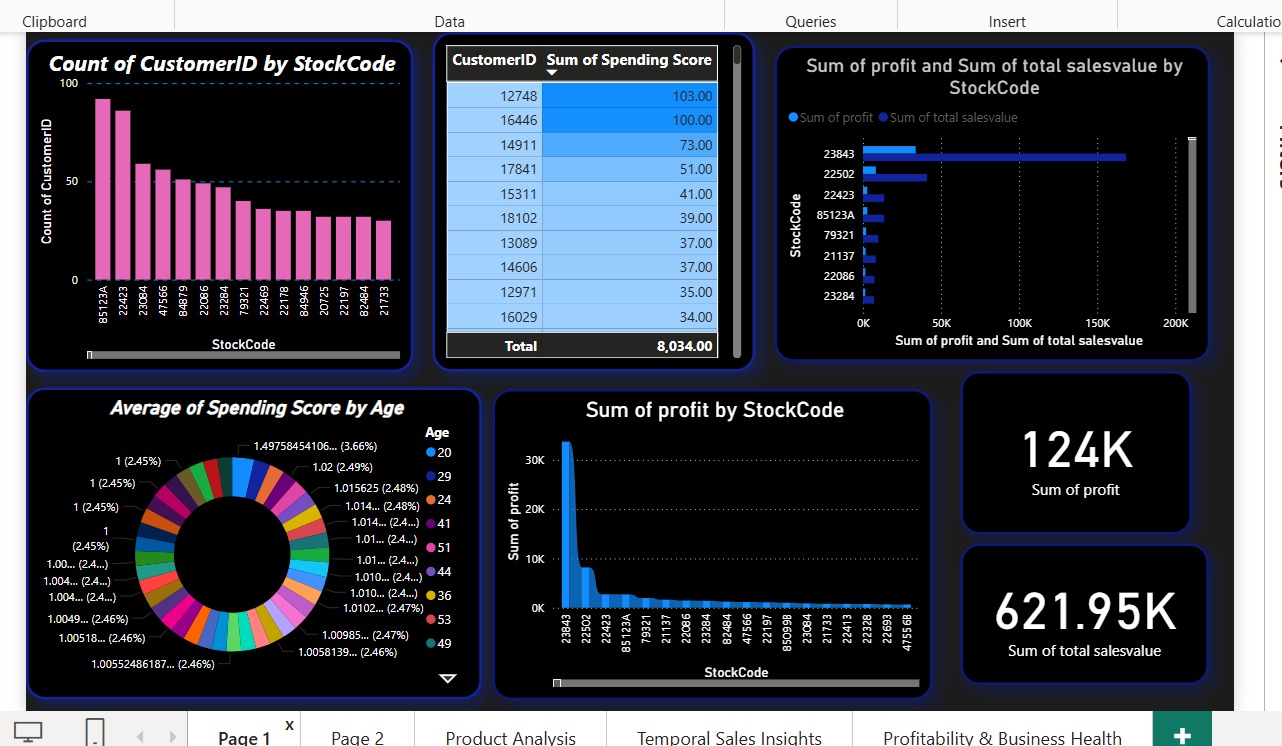

The dashboard page shown, as its layout file describes it:
{"tool":"powerbi","page":{"name":"Page 1","canvas":[1280,720],"ordinal":0},"visuals":[{"type":"clusteredColumnChart","fields":{"Category":["data.StockCode"],"Y":["CountNonNull(data.CustomerID)"]},"box":[0,7.3,410.9,352.7],"z":0},{"type":"donutChart","fields":{"Category":["data.Age"],"Y":["Avg(data.Spending Score)"]},"box":[0,376.4,483.6,330.9],"z":1000},{"type":"tableEx","fields":{"Values":["data.CustomerID","Sum(data.Spending Score)"]},"box":[430.9,0,341.8,360],"z":2000},{"type":"clusteredBarChart","fields":{"Category":["data.StockCode"],"Y":["Sum(data.profit)","Sum(data.total salesvalue)"]},"box":[793.3,15,461.7,335],"z":3000},{"type":"ribbonChart","fields":{"Category":["data.StockCode"],"Y":["Sum(data.profit)"]},"box":[495,378.3,466.7,330],"z":4000},{"type":"card","fields":{"Values":["Sum(data.profit)"]},"box":[991.7,360,245,173.3],"z":5000},{"type":"card","fields":{"Values":["Sum(data.total salesvalue)"]},"box":[991.7,541.7,263.3,150],"z":6000}]}

Visuals, with their boxes on the page's 1280x720 design canvas (x1, y1, x2, y2). These are canvas units, not pixel positions in the 1282x746 screenshot, which may show the page scaled, cropped or inside an application window:
clusteredColumnChart - data.StockCode x CountNonNull(data.CustomerID): (left=0, top=7, right=411, bottom=360)
donutChart - data.Age x Avg(data.Spending Score): (left=0, top=376, right=484, bottom=707)
tableEx - data.CustomerID x Sum(data.Spending Score): (left=431, top=0, right=773, bottom=360)
clusteredBarChart - data.StockCode x Sum(data.profit): (left=793, top=15, right=1255, bottom=350)
ribbonChart - data.StockCode x Sum(data.profit): (left=495, top=378, right=962, bottom=708)
card - Sum(data.profit): (left=992, top=360, right=1237, bottom=533)
card - Sum(data.total salesvalue): (left=992, top=542, right=1255, bottom=692)
